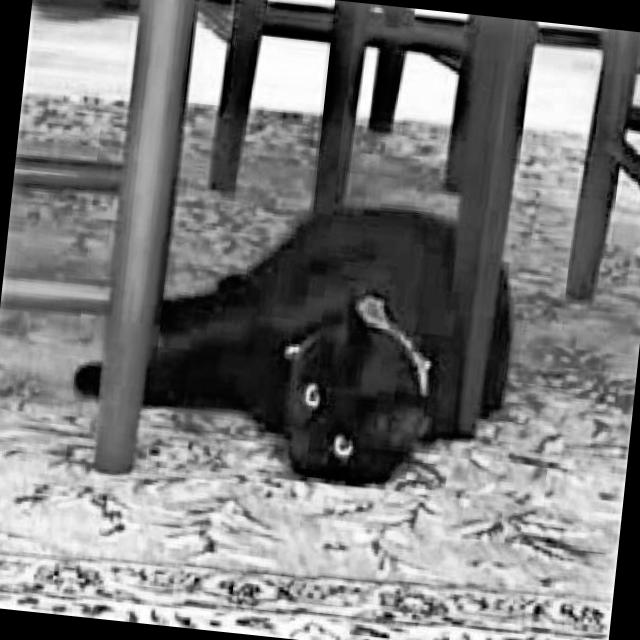Cat: (142, 172, 528, 502)
